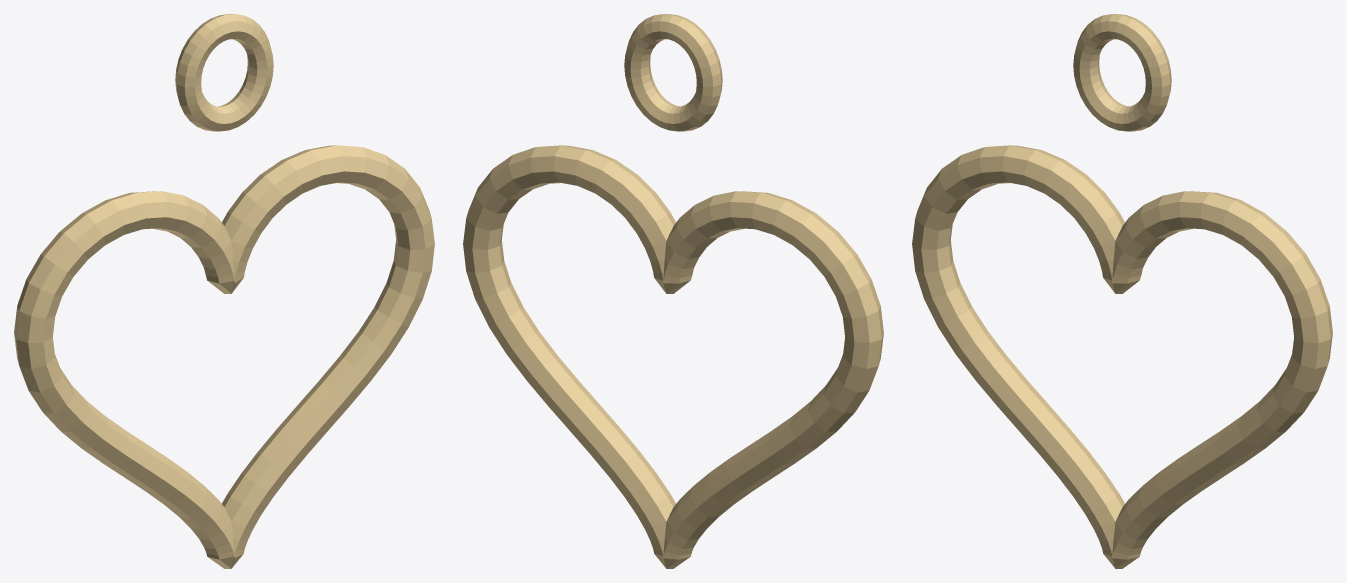
The model's file is ACC_Heart_Pendant.glb.
The picture shows the model from 3 angles, left to right: view 1: azimuth 30°, elevation 25°; view 2: azimuth 150°, elevation 25°; view 3: azimuth 330°, elevation 25°; orthographic projection.
Visible parts, largest first — view 1: ACC_Heart_Pendant_1, ACC_Heart_Pendant_2; view 2: ACC_Heart_Pendant_1, ACC_Heart_Pendant_2; view 3: ACC_Heart_Pendant_1, ACC_Heart_Pendant_2.
Part boxes in pixels (x1=…): ACC_Heart_Pendant_1: x1=14, y1=145, x2=434, y2=568; ACC_Heart_Pendant_2: x1=175, y1=14, x2=273, y2=131; ACC_Heart_Pendant_1: x1=463, y1=145, x2=883, y2=568; ACC_Heart_Pendant_2: x1=624, y1=14, x2=722, y2=131; ACC_Heart_Pendant_1: x1=912, y1=145, x2=1332, y2=568; ACC_Heart_Pendant_2: x1=1073, y1=14, x2=1171, y2=131.
Bounding box in the file's own units: 0.0575 × 0.073 × 0.0048.
